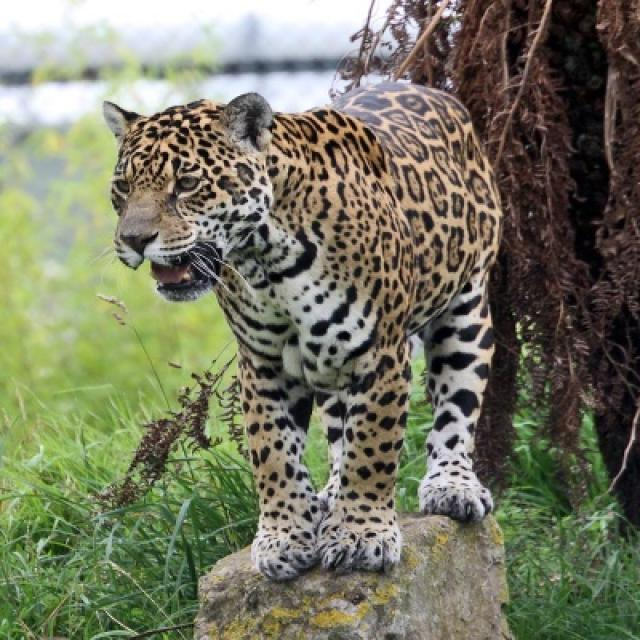Jaguar: (101, 82, 502, 586)
